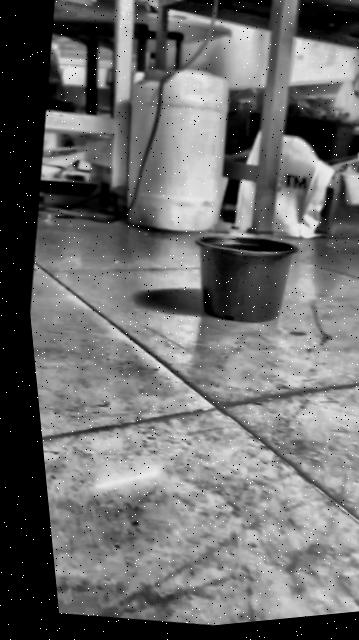pot: (181, 221, 305, 333)
